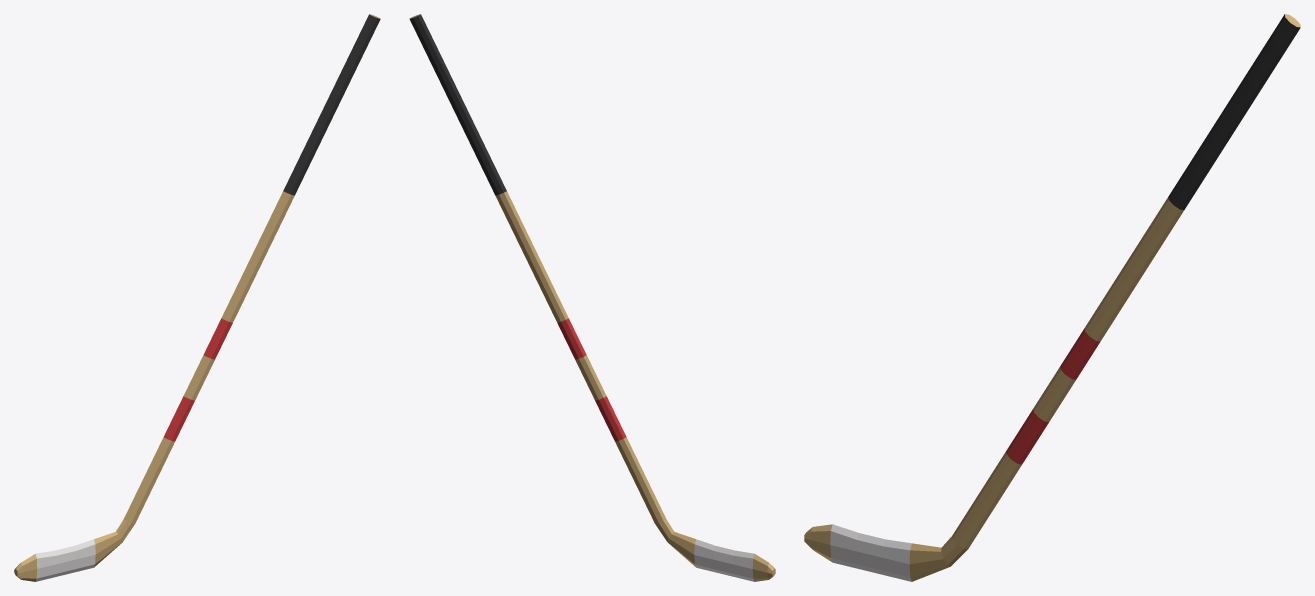
Rendered from Ice Hockey Stick.fbx.
The picture shows the model from 3 angles, left to right: view 1: azimuth 30°, elevation 25°; view 2: azimuth 150°, elevation 25°; view 3: azimuth 330°, elevation 25°; orthographic projection. The views are drawn at different scales.
Parts seen in each view (by area): view 1: Ice Hockey Stick; view 2: Ice Hockey Stick; view 3: Ice Hockey Stick.
Boxes of the visible parts, x1,y1,x2,y2 form: Ice Hockey Stick: (14, 14, 380, 581); Ice Hockey Stick: (409, 14, 775, 581); Ice Hockey Stick: (804, 14, 1300, 581).
Bounding box in the file's own units: 749 × 954 × 14.
